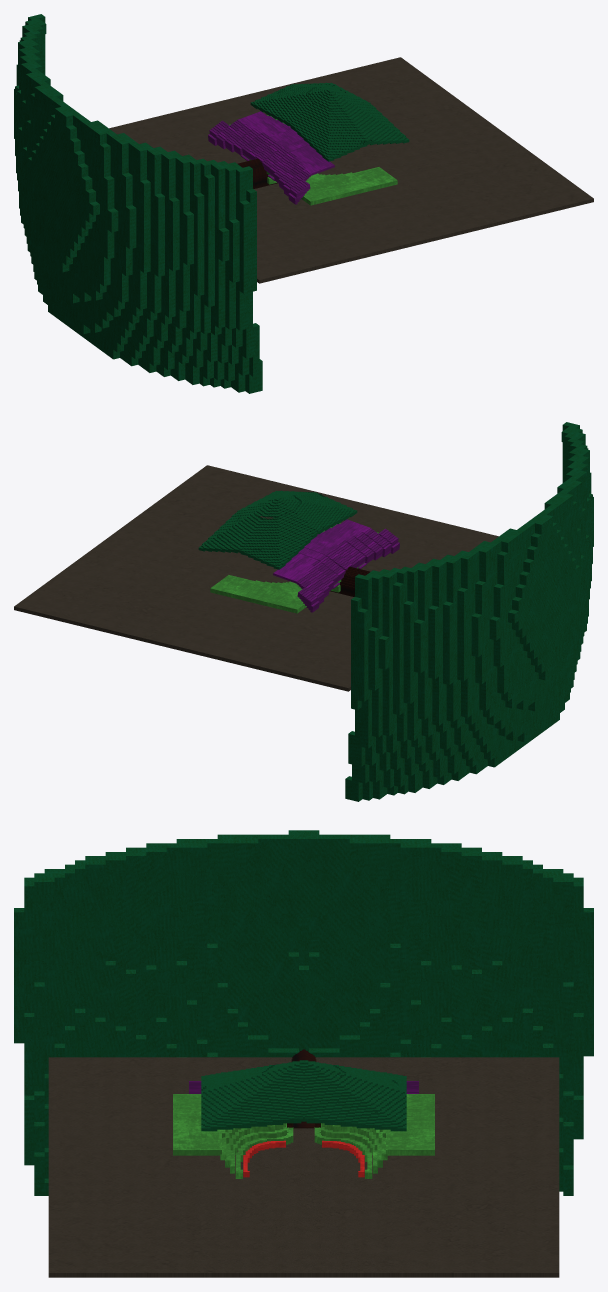
The model's file is Map.fbx.
The picture shows the model from 3 angles, top to bottom: view 1: azimuth 30°, elevation 25°; view 2: azimuth 150°, elevation 25°; view 3: azimuth 270°, elevation 25°; orthographic projection. The views are drawn at different scales.
Visible parts, largest first — view 1: BG, Ground, Roof, Awning, Seats; view 2: BG, Ground, Roof, Awning, Seats; view 3: BG, Ground, Roof, Seats, Edge.
Part boxes in pixels (bbox=[...]): BG: bbox=[14, 14, 262, 393]; Ground: bbox=[109, 57, 593, 283]; Roof: bbox=[250, 82, 409, 161]; Awning: bbox=[208, 111, 334, 204]; Seats: bbox=[229, 115, 397, 205]; BG: bbox=[345, 422, 593, 801]; Ground: bbox=[14, 465, 498, 691]; Roof: bbox=[198, 490, 357, 569]; Awning: bbox=[273, 519, 399, 612]; Seats: bbox=[210, 523, 378, 613]; BG: bbox=[14, 830, 593, 1195]; Ground: bbox=[48, 1057, 559, 1277]; Roof: bbox=[201, 1060, 406, 1131]; Seats: bbox=[173, 1094, 434, 1178]; Edge: bbox=[243, 1140, 364, 1177].
Size of the model in its own units: 3641 by 1815 by 3168.
